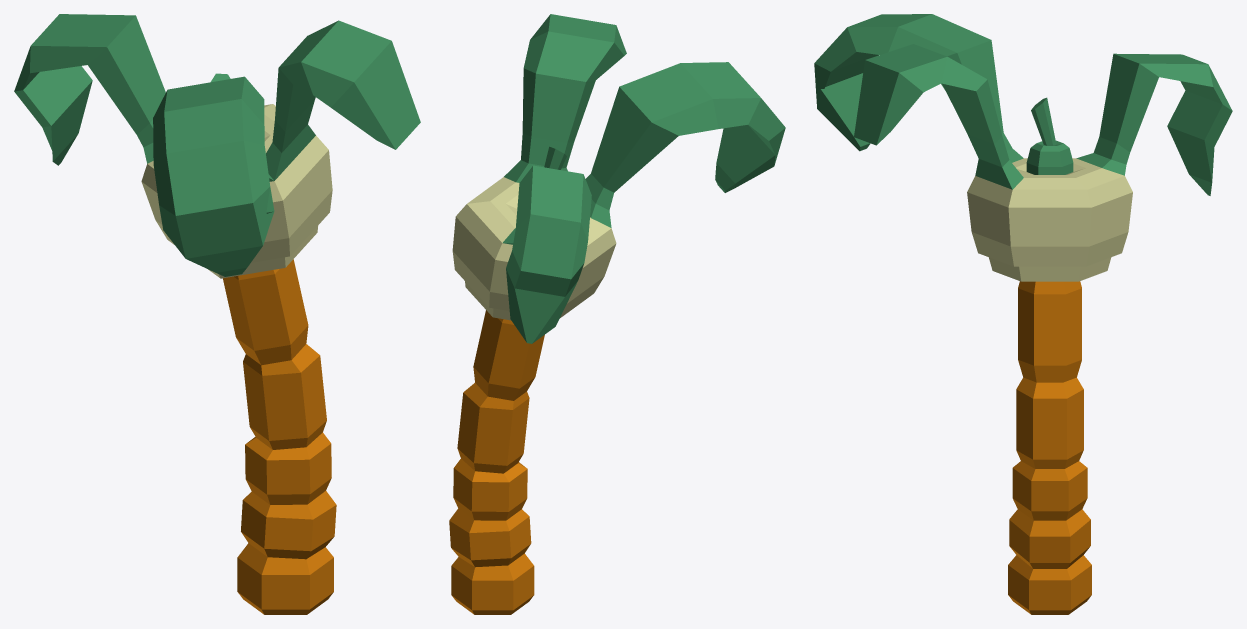
Rendered from palmtree.fbx.
3 renders of one model, left to right at view 1: azimuth 30°, elevation 25°; view 2: azimuth 150°, elevation 25°; view 3: azimuth 270°, elevation 25°, orthographic. The views are drawn at different scales.
Parts seen in each view (by area): view 1: palm_tree; view 2: palm_tree; view 3: palm_tree.
Part boxes in pixels (x1,y1,x2,y2): palm_tree: (14,14,420,614); palm_tree: (449,14,785,614); palm_tree: (814,14,1232,614).
Bounding box in the file's own units: 635 × 1426 × 997.
